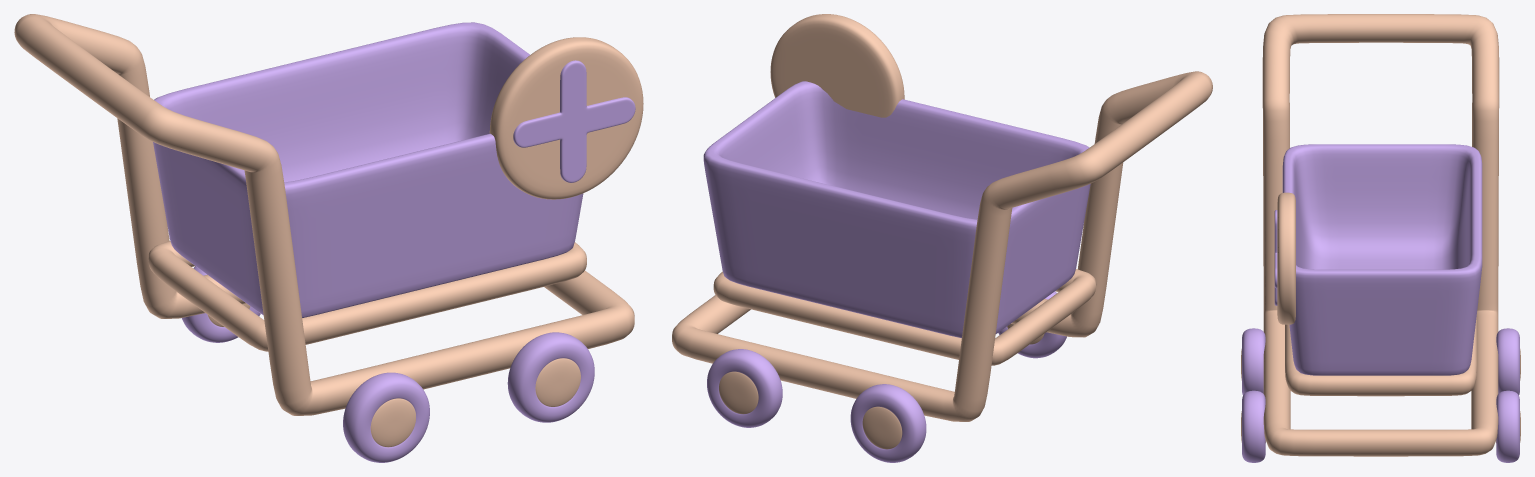
The model's file is shopping-app-1678811773659.glb.
The picture shows the model from 3 angles, left to right: view 1: azimuth 30°, elevation 25°; view 2: azimuth 150°, elevation 25°; view 3: azimuth 270°, elevation 25°; orthographic projection. The views are drawn at different scales.
Visible parts, largest first — view 1: Basket.001, Add, Tire1.001, Tire3.001, Tire2.001; view 2: Basket.001, Add, Tire2.001, Tire4.001, Tire1.001; view 3: Basket.001, Add, Tire3.001, Tire4.001, Tire1.001, Tire2.001.
Part boxes in pixels (box(x1,y1,x2,y2)): Basket.001: box(14, 14, 634, 415); Add: box(489, 37, 643, 199); Tire1.001: box(343, 372, 429, 462); Tire3.001: box(507, 332, 594, 422); Tire2.001: box(181, 266, 260, 342); Basket.001: box(672, 71, 1212, 421); Add: box(770, 14, 904, 117); Tire2.001: box(850, 384, 926, 462); Tire4.001: box(707, 349, 782, 427); Tire1.001: box(998, 291, 1066, 358); Basket.001: box(1262, 14, 1499, 456); Add: box(1274, 192, 1295, 324); Tire3.001: box(1241, 390, 1265, 462); Tire4.001: box(1496, 390, 1520, 462); Tire1.001: box(1241, 328, 1265, 395); Tire2.001: box(1496, 328, 1520, 395).
Bounding box in the file's own units: 2.33 × 1.73 × 1.45.
